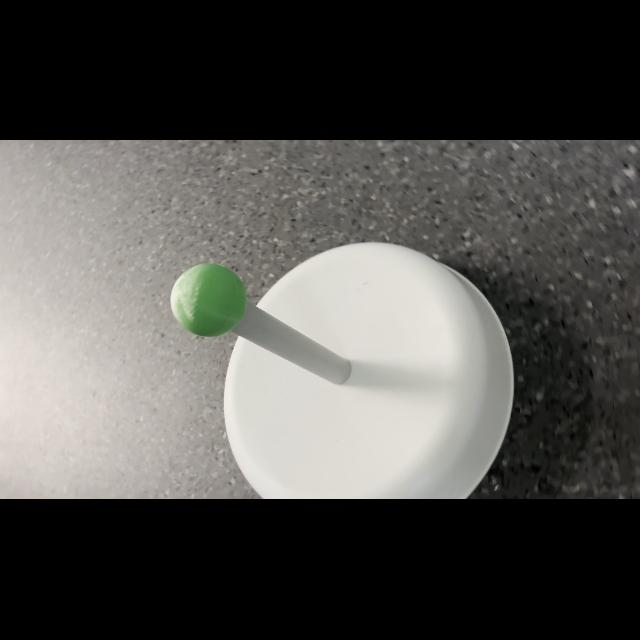objects: (167, 256, 249, 340)
